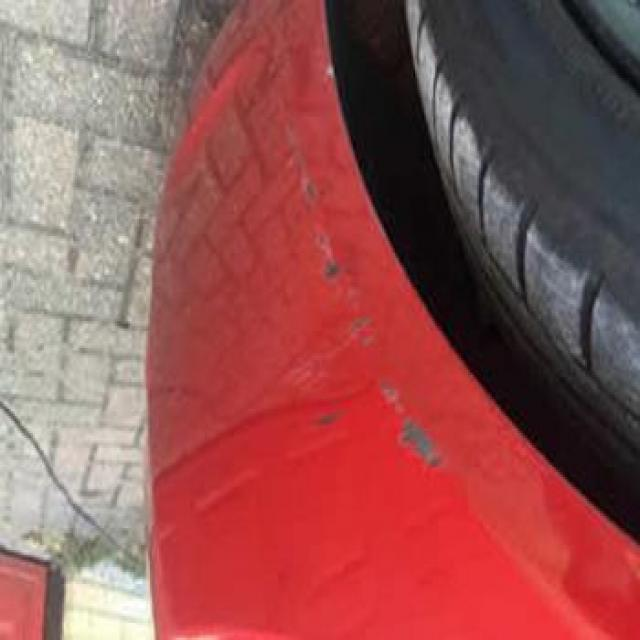scratch: (254, 118, 463, 508)
